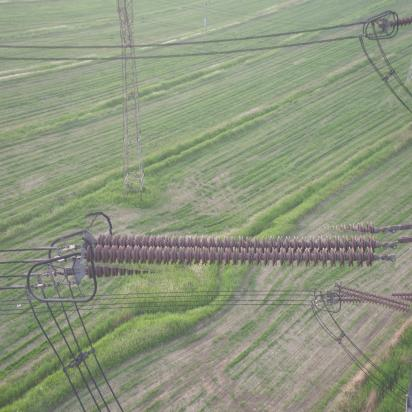insulator: (82, 212, 398, 290), (335, 286, 412, 309)
